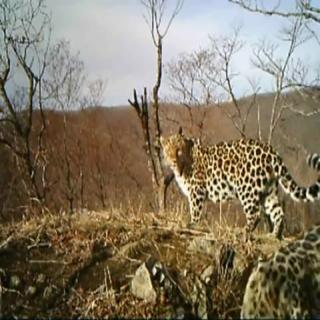Leopard: (153, 115, 320, 235)
